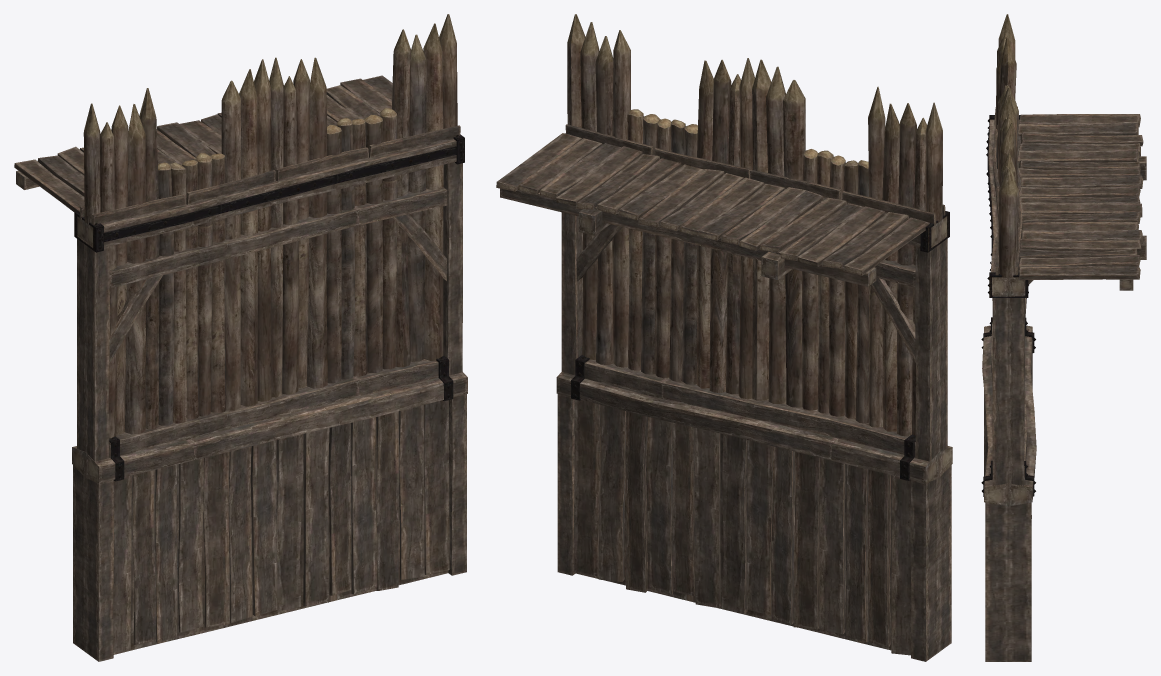
File: jav_struc_def_ironwood_t2_rampart-transformed.glb
3 views of the same model, side by side, from view 1: azimuth 30°, elevation 25°; view 2: azimuth 150°, elevation 25°; view 3: azimuth 270°, elevation 25° (orthographic). The views are drawn at different scales.
Visible parts, largest first — view 1: default; view 2: default; view 3: default.
Part boxes in pixels (left/top/right/bottom): default: left=14, top=14, right=467, bottom=661; default: left=496, top=14, right=952, bottom=661; default: left=981, top=14, right=1146, bottom=661.
Size of the model in its own units: 8.08 by 11.46 by 3.48.
Materials: 1 (1 with a texture image).
